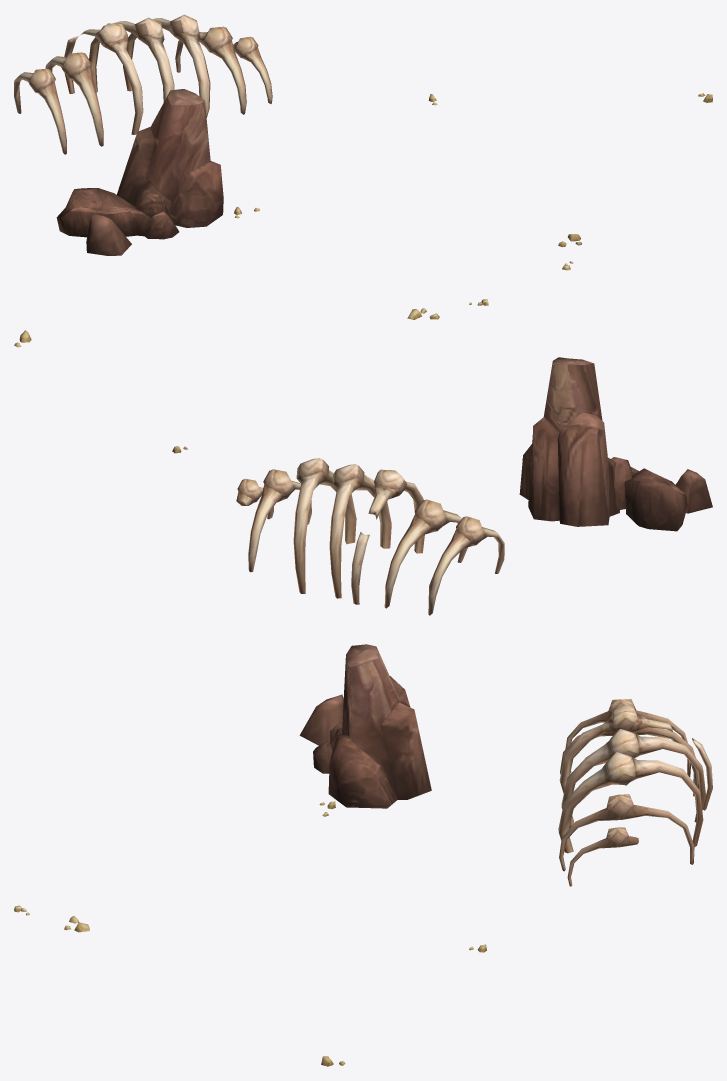
File: area_05_6.fbx
The picture shows the model from 3 angles, top to bottom: view 1: azimuth 30°, elevation 25°; view 2: azimuth 150°, elevation 25°; view 3: azimuth 270°, elevation 25°; orthographic projection. The views are drawn at different scales.
Visible parts, largest first — view 1: area_05_6; view 2: area_05_6; view 3: area_05_6.
Part boxes in pixels (<box>): area_05_6: <box>14,14,712,270</box>; area_05_6: <box>14,299,712,615</box>; area_05_6: <box>14,644,712,1066</box>.
Size of the model in its own units: 26.04 by 5.08 by 22.33.
